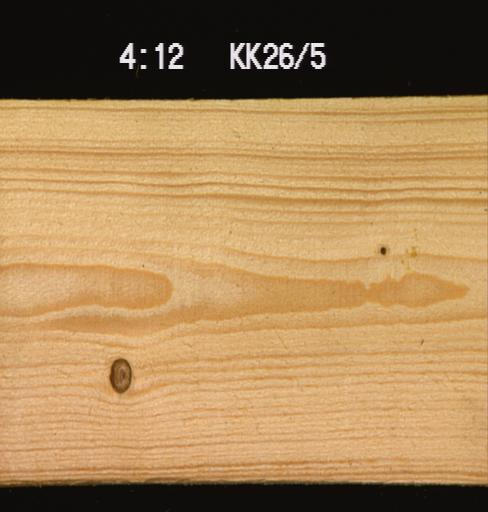dry_knot: (105, 354, 133, 394)
small_knot: (374, 240, 390, 258)
